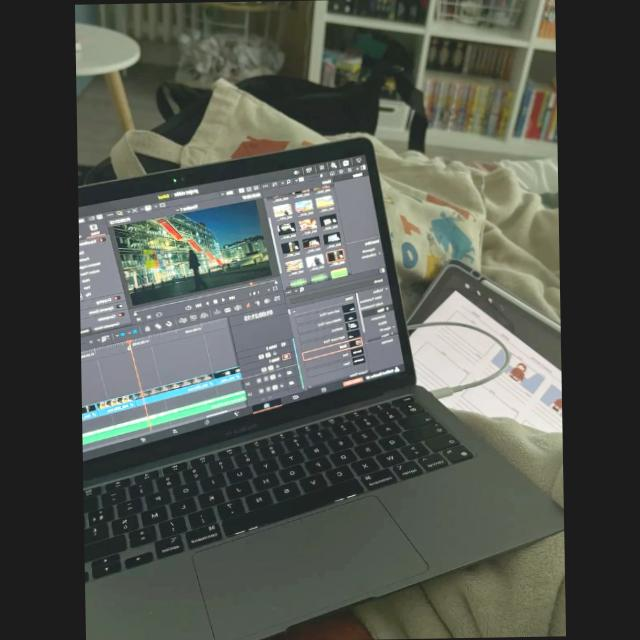laptop: (76, 121, 482, 640)
